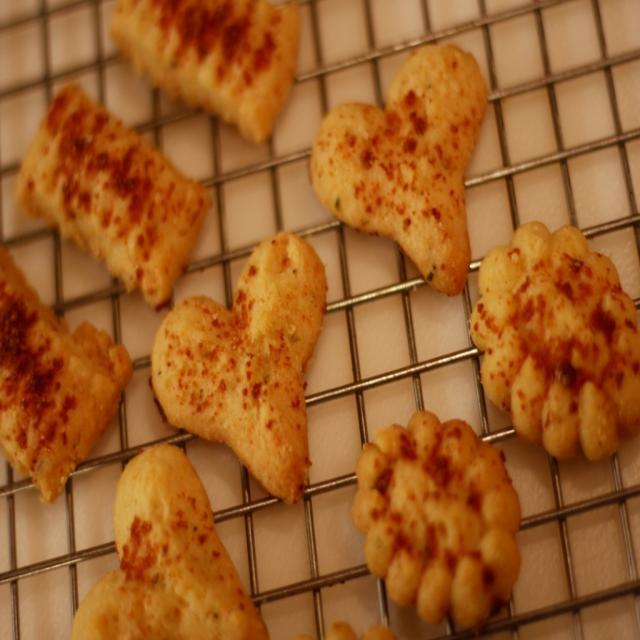Cookie: (151, 226, 331, 509), (309, 35, 488, 301), (12, 81, 212, 306), (466, 214, 640, 470), (68, 438, 272, 640), (354, 397, 520, 631), (0, 239, 134, 505), (107, 0, 302, 142)
